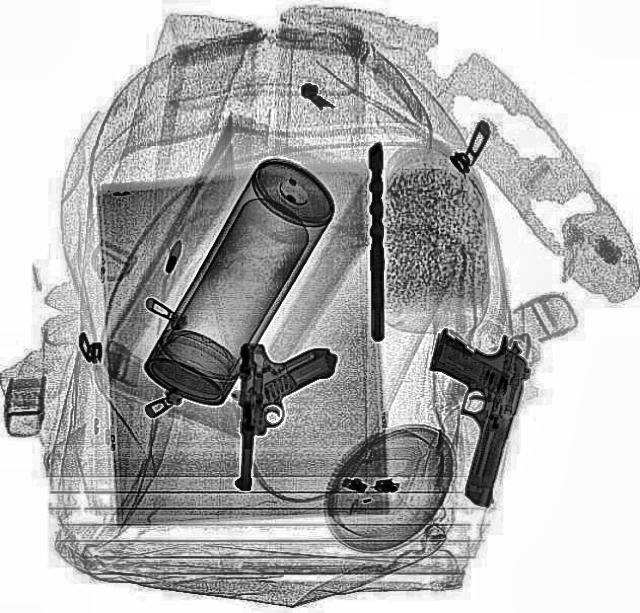Gun: (390, 320, 536, 510), (232, 340, 336, 494)
